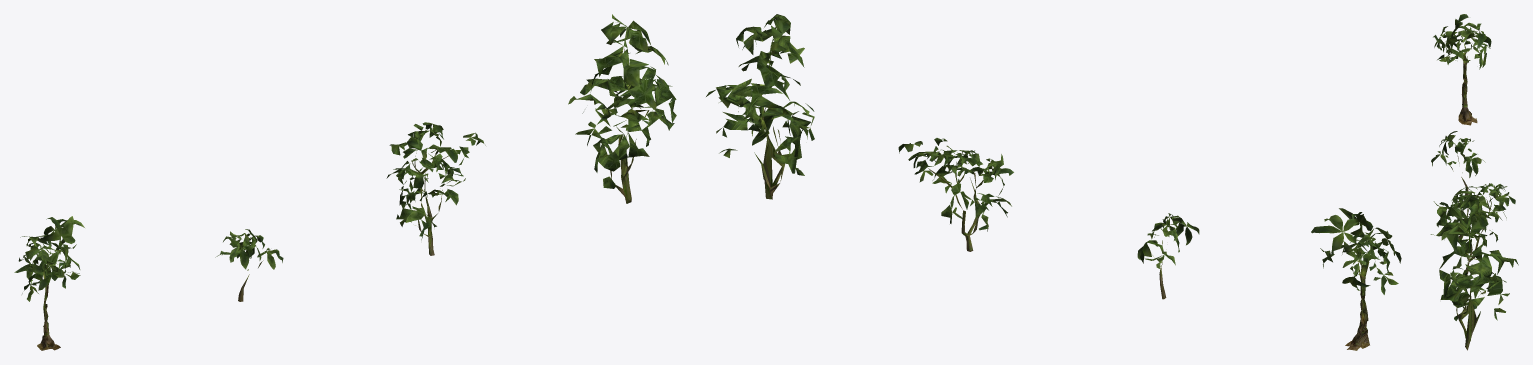
The model's file is pachira_aquatica_01_lod2.glb.
3 renders of one model, left to right at view 1: azimuth 30°, elevation 25°; view 2: azimuth 150°, elevation 25°; view 3: azimuth 270°, elevation 25°, orthographic. The views are drawn at different scales.
Parts seen in each view (by area): view 1: pachira_aquatica_01_leaves_d, pachira_aquatica_01_leaves_c, pachira_aquatica_01_leaves_a, pachira_aquatica_01_leaves_b, pachira_aquatica_01_bark_d; view 2: pachira_aquatica_01_leaves_d, pachira_aquatica_01_leaves_c, pachira_aquatica_01_leaves_a, pachira_aquatica_01_leaves_b, pachira_aquatica_01_bark_d, pachira_aquatica_01_bark_a, pachira_aquatica_01_bark_c; view 3: pachira_aquatica_01_leaves_d, pachira_aquatica_01_leaves_a, pachira_aquatica_01_leaves_c, pachira_aquatica_01_leaves_b, pachira_aquatica_01_bark_d, pachira_aquatica_01_bark_a, pachira_aquatica_01_bark_c.
Part boxes in pixels (x1,y1,x2,y2): pachira_aquatica_01_leaves_d: (568, 14, 676, 188); pachira_aquatica_01_leaves_c: (386, 122, 485, 240); pachira_aquatica_01_leaves_a: (14, 216, 84, 301); pachira_aquatica_01_leaves_b: (215, 229, 283, 270); pachira_aquatica_01_bark_d: (610, 46, 649, 203); pachira_aquatica_01_leaves_d: (706, 14, 814, 175); pachira_aquatica_01_leaves_c: (898, 138, 1013, 231); pachira_aquatica_01_leaves_a: (1311, 208, 1401, 294); pachira_aquatica_01_leaves_b: (1137, 213, 1199, 268); pachira_aquatica_01_bark_d: (738, 39, 784, 199); pachira_aquatica_01_bark_a: (1345, 260, 1369, 350); pachira_aquatica_01_bark_c: (927, 162, 983, 251); pachira_aquatica_01_leaves_d: (1430, 192, 1518, 320); pachira_aquatica_01_leaves_a: (1433, 14, 1491, 69); pachira_aquatica_01_leaves_c: (1433, 183, 1515, 244); pachira_aquatica_01_leaves_b: (1431, 131, 1485, 177); pachira_aquatica_01_bark_d: (1456, 219, 1485, 350); pachira_aquatica_01_bark_a: (1458, 50, 1477, 125); pachira_aquatica_01_bark_c: (1458, 195, 1491, 273).
Size of the model in its own units: 6.84 by 1.89 by 0.9726.
2 materials, 2 textured.
